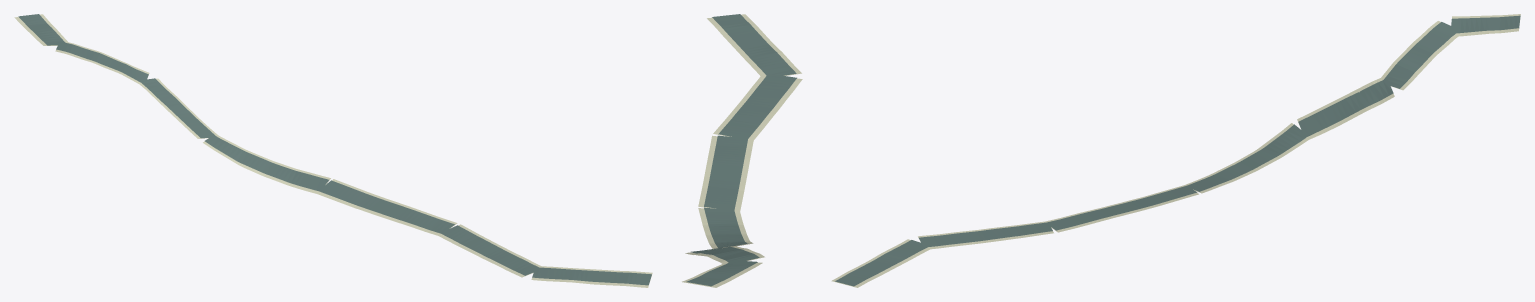
The model's file is Road_01.glb.
3 renders of one model, left to right at view 1: azimuth 30°, elevation 25°; view 2: azimuth 150°, elevation 25°; view 3: azimuth 270°, elevation 25°, orthographic. The views are drawn at different scales.
Visible parts, largest first — view 1: Road_01; view 2: Road_01; view 3: Road_01.
Part boxes in pixels (x1,y1,x2,y2): Road_01: (14,14,652,287); Road_01: (682,14,802,287); Road_01: (831,14,1520,287).
Bounding box in the file's own units: 56.3 × 17.34 × 98.07.
